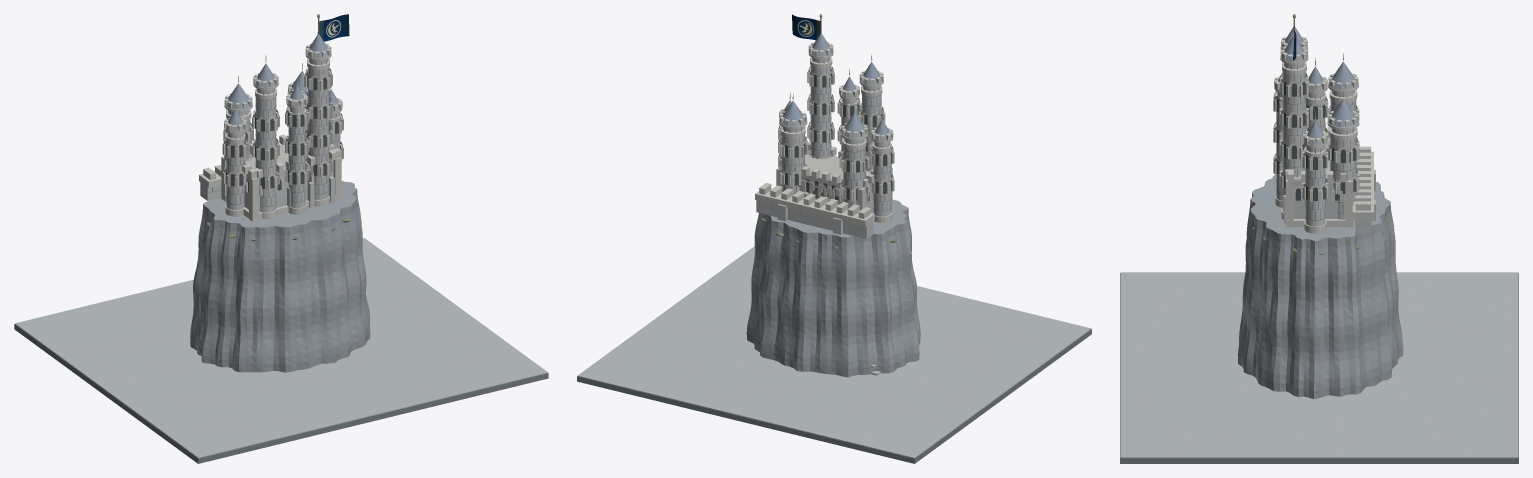
File: eyrie.glb
3 renders of one model, left to right at view 1: azimuth 30°, elevation 25°; view 2: azimuth 150°, elevation 25°; view 3: azimuth 270°, elevation 25°, orthographic. The views are drawn at different scales.
Visible parts, largest first — view 1: ایری; view 2: ایری; view 3: ایری.
Boxes of the visible parts, x1,y1,x2,y2 form: ایری: (14, 14, 548, 463); ایری: (577, 14, 1091, 463); ایری: (1120, 14, 1518, 463).
Size of the model in its own units: 11 by 10.26 by 10.
2 materials, 1 textured.
